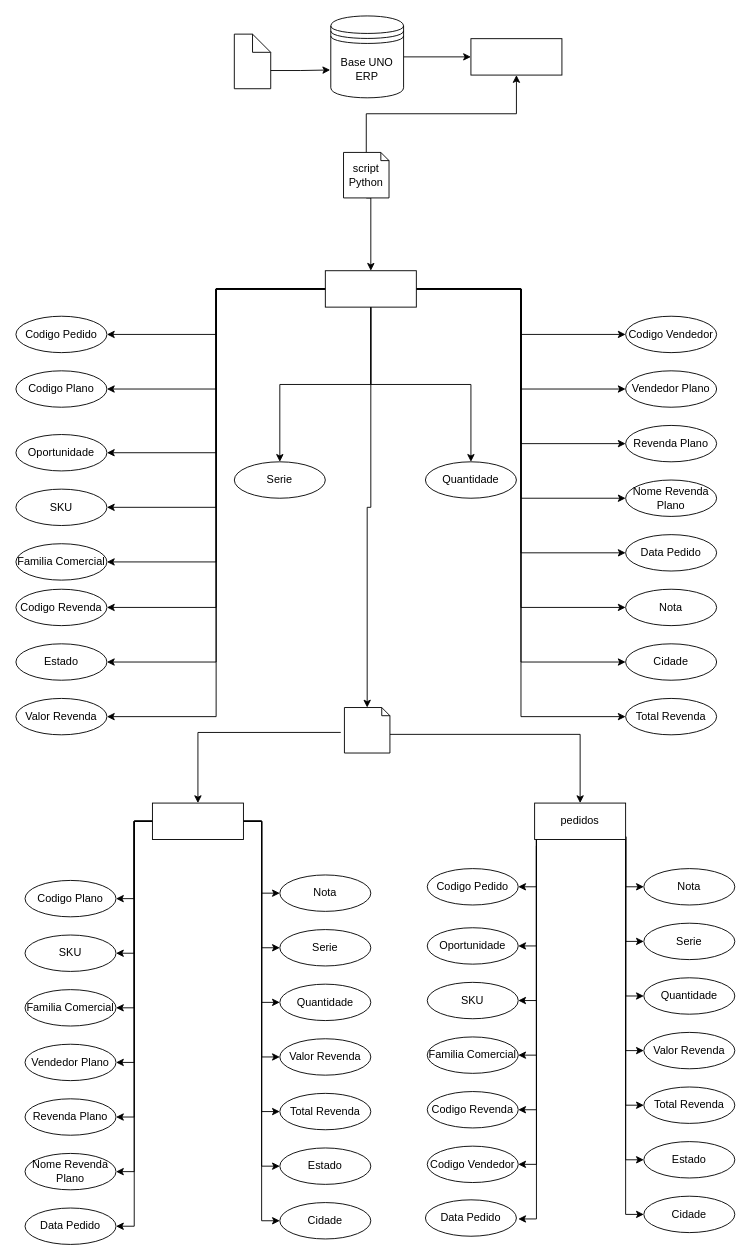
This 751x1260 diagram has some shape labels left out. The box of each missing label's shape, as (x1, y1, x2, y2) in pixels:
ETL: (344, 707, 390, 753)
f_pedidos: (470, 38, 562, 75)
faturamento: (324, 270, 416, 307)
planos_serviço: (152, 802, 243, 839)
query: (233, 33, 271, 89)
